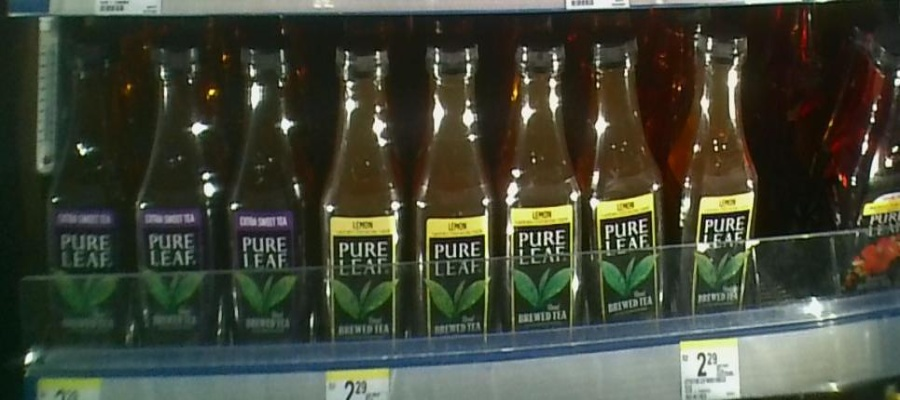bottle: (315, 41, 408, 355), (499, 41, 587, 358), (410, 37, 493, 360), (46, 37, 130, 354), (132, 46, 218, 351), (224, 47, 312, 345), (589, 27, 668, 344), (673, 24, 752, 323), (834, 29, 899, 319)
